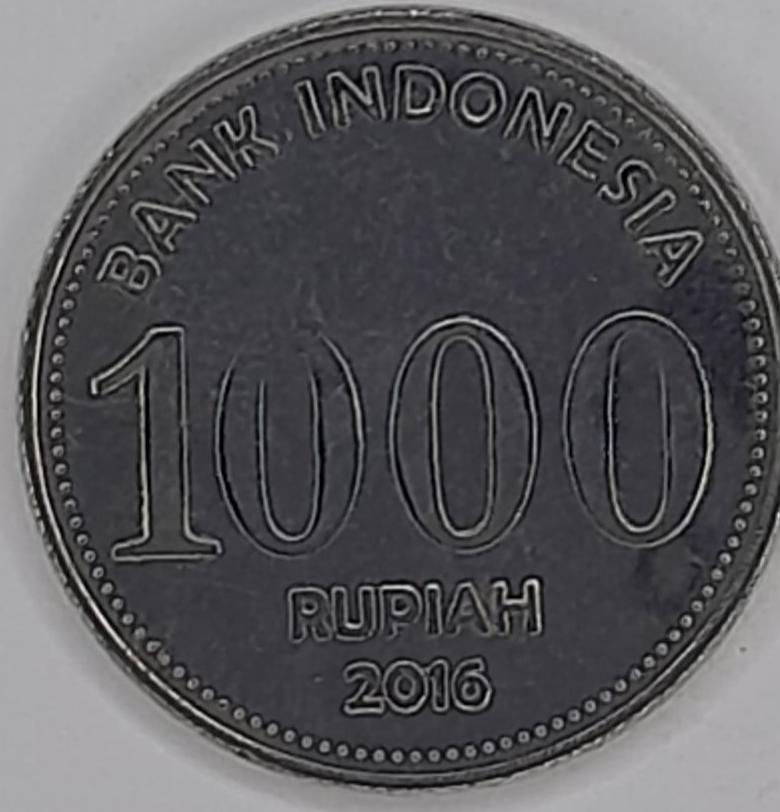coin_1000_e2016: (13, 16, 770, 812)
